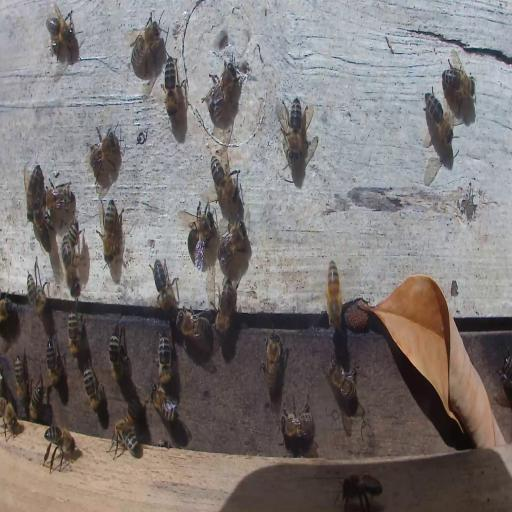nonpollenbee: (126, 11, 166, 72), (41, 423, 80, 474), (96, 198, 123, 271), (205, 62, 237, 119), (44, 8, 79, 60), (86, 126, 123, 174), (150, 258, 179, 314), (280, 393, 314, 440), (424, 90, 452, 145), (260, 330, 284, 392), (284, 95, 306, 161), (335, 474, 384, 502), (108, 318, 128, 386), (217, 219, 249, 260), (211, 158, 239, 204), (31, 198, 53, 256), (109, 420, 141, 458), (26, 260, 48, 315), (328, 361, 358, 401), (62, 226, 78, 296), (43, 178, 72, 216), (188, 207, 214, 248), (24, 164, 44, 217), (442, 67, 475, 99), (150, 384, 178, 420), (46, 336, 64, 390), (0, 397, 22, 440), (176, 310, 208, 339), (163, 54, 177, 120), (343, 302, 373, 332), (214, 284, 232, 334), (157, 328, 172, 386), (82, 364, 102, 406), (14, 354, 29, 404), (63, 223, 79, 266), (29, 378, 44, 422), (68, 310, 82, 356), (1, 294, 19, 324), (125, 399, 141, 425), (500, 374, 508, 404)
pollenbee: (324, 259, 344, 332)
